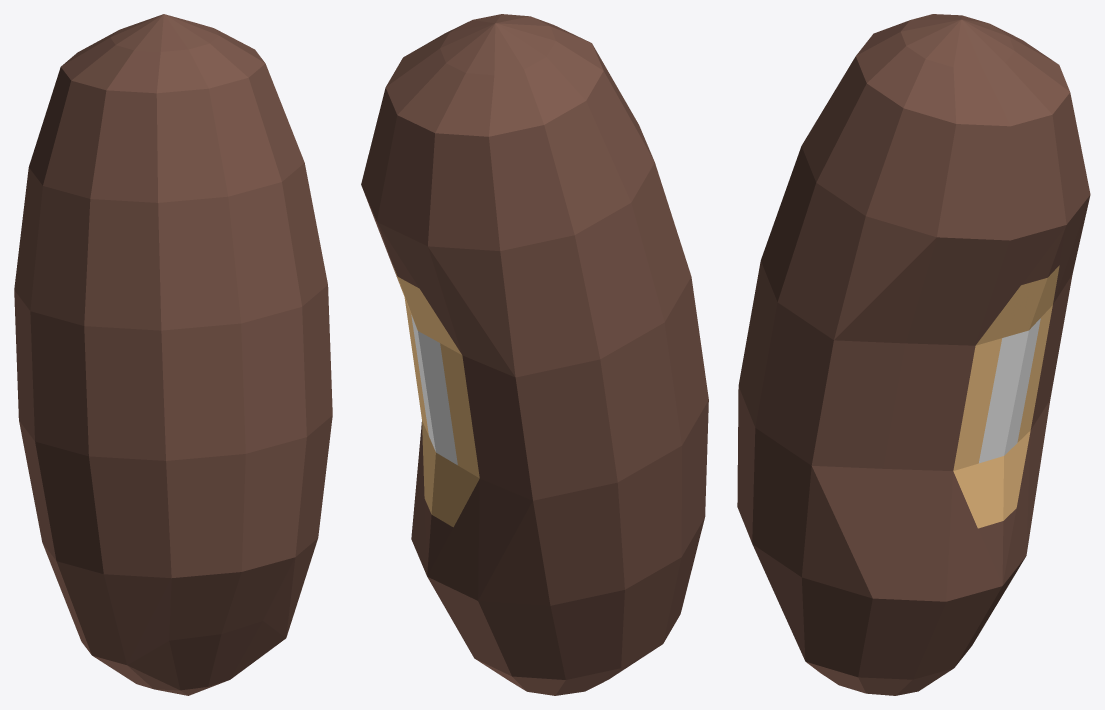
The model's file is bean_seed.fbx.
The picture shows the model from 3 angles, left to right: view 1: azimuth 30°, elevation 25°; view 2: azimuth 150°, elevation 25°; view 3: azimuth 270°, elevation 25°; orthographic projection. The views are drawn at different scales.
Parts seen in each view (by area): view 1: mesh_127060515; view 2: mesh_127060515; view 3: mesh_127060515.
Boxes of the visible parts, bbox=[...] form: mesh_127060515: bbox=[14, 14, 332, 695]; mesh_127060515: bbox=[361, 14, 708, 695]; mesh_127060515: bbox=[737, 14, 1090, 695].
Size of the model in its own units: 7.71 by 17.82 by 8.34.
